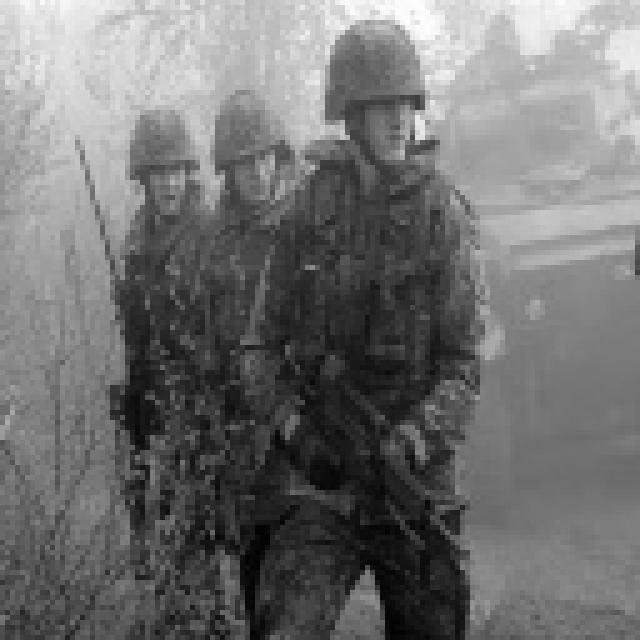Rifle: (252, 282, 492, 592), (65, 113, 171, 619), (152, 191, 275, 582)
